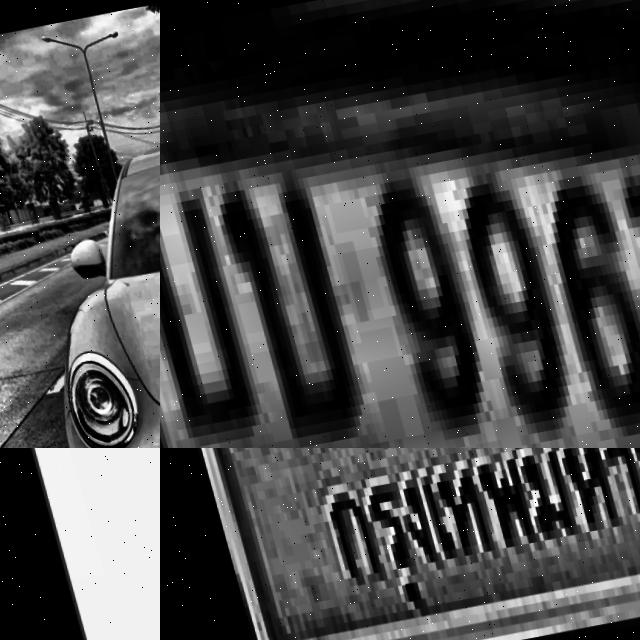license-plate: (160, 0, 640, 448), (160, 448, 640, 640), (0, 448, 160, 640)
